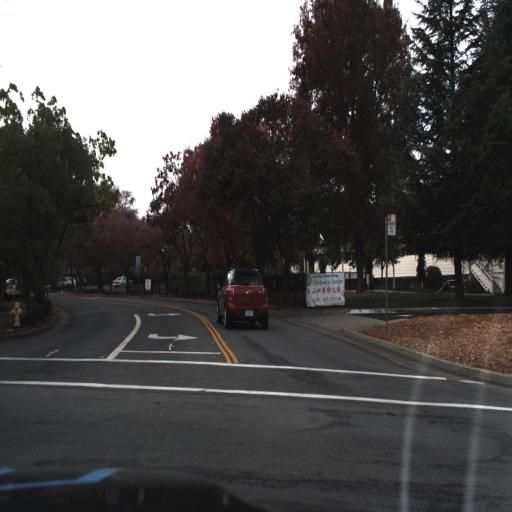car: (215, 269, 270, 335), (56, 271, 78, 292), (111, 274, 133, 292)
